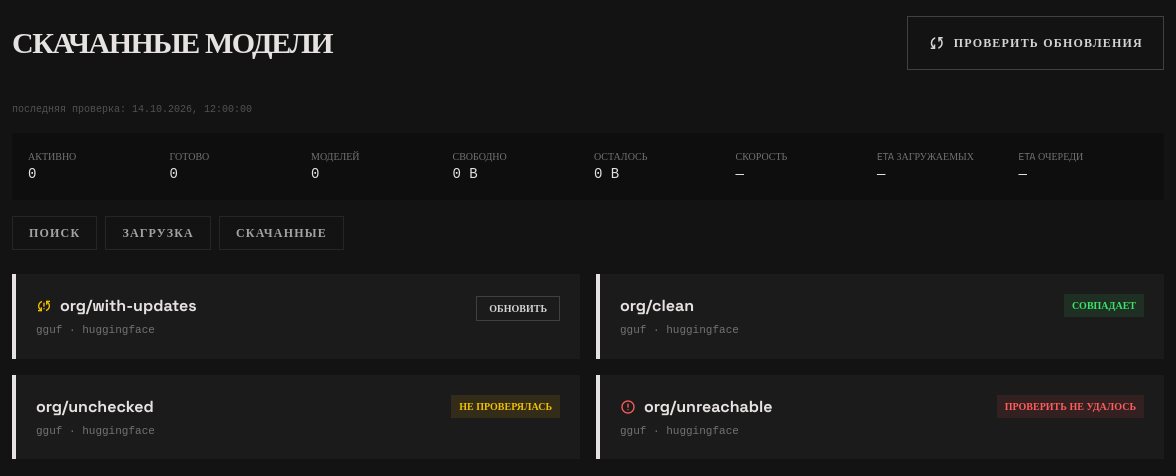
Test: DownloadedModelsPage — проверка обновлений › кнопка недоступна во время запроса запуска
This screenshot has width=1176, height=476.
Click the button with test id "check-updates" at (1035, 43), box x1=907 y1=16 x2=1164 y2=70
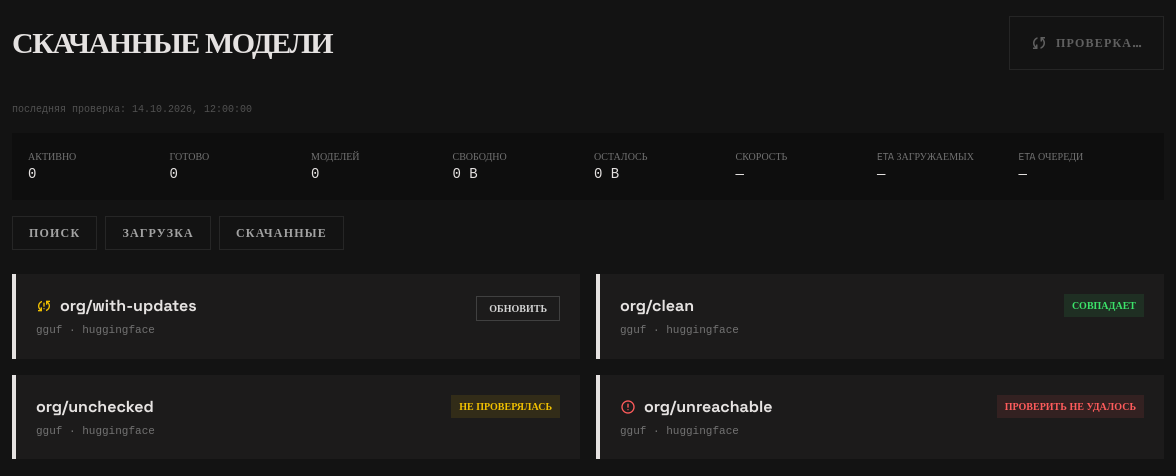
Check: the button with test id "check-updates" is disabled, box x1=1009 y1=16 x2=1164 y2=70
Check: the button with test id "check-updates" reads "Проверка…", box x1=1009 y1=16 x2=1164 y2=70
